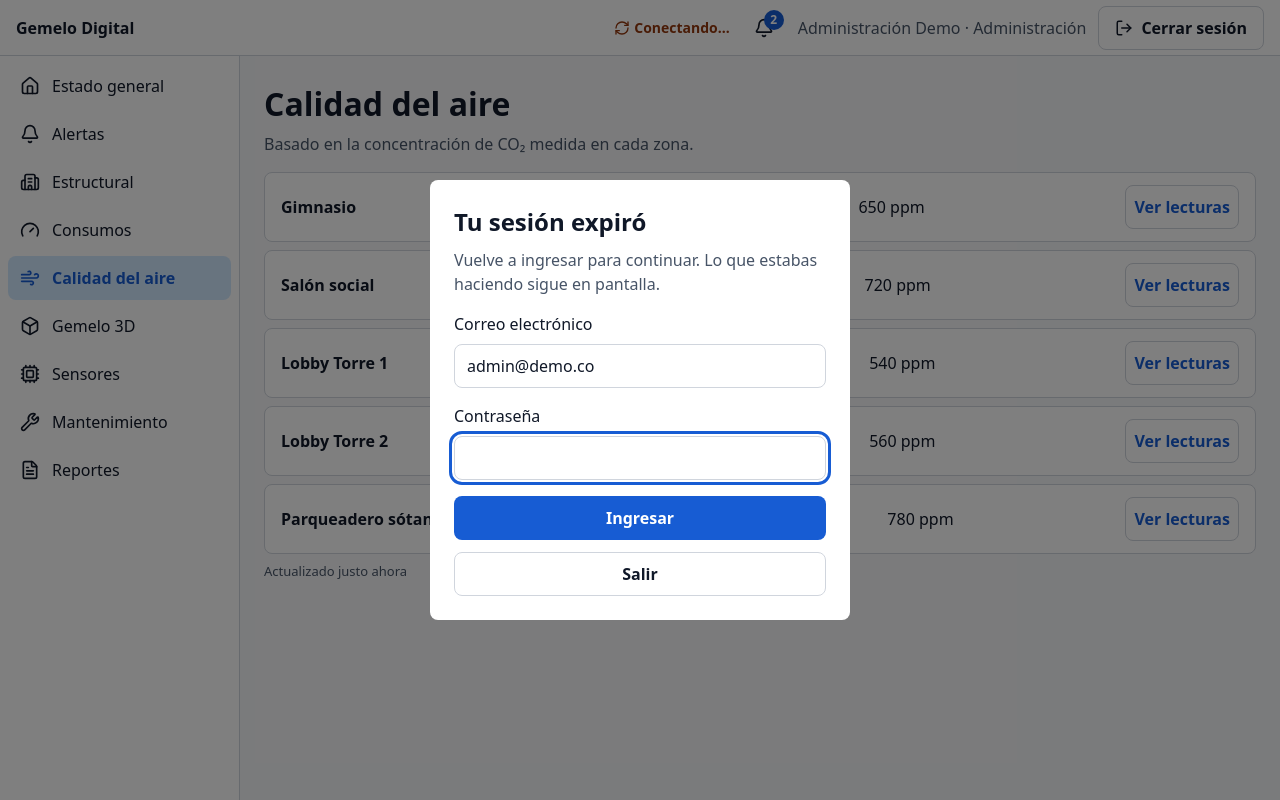
Test: rutas y guardas › si la sesión expira, aparece el modal y al volver a entrar sigue en la misma pantalla
Expected: the heading "Calidad del aire" is shown, [264, 82, 510, 125]
Expected: the field labelled "Correo electrónico" holds "admin@demo.co", [454, 344, 826, 388]
Type "Demo1234!" into the password field labelled "Contraseña" at [640, 458], box [454, 436, 826, 480]
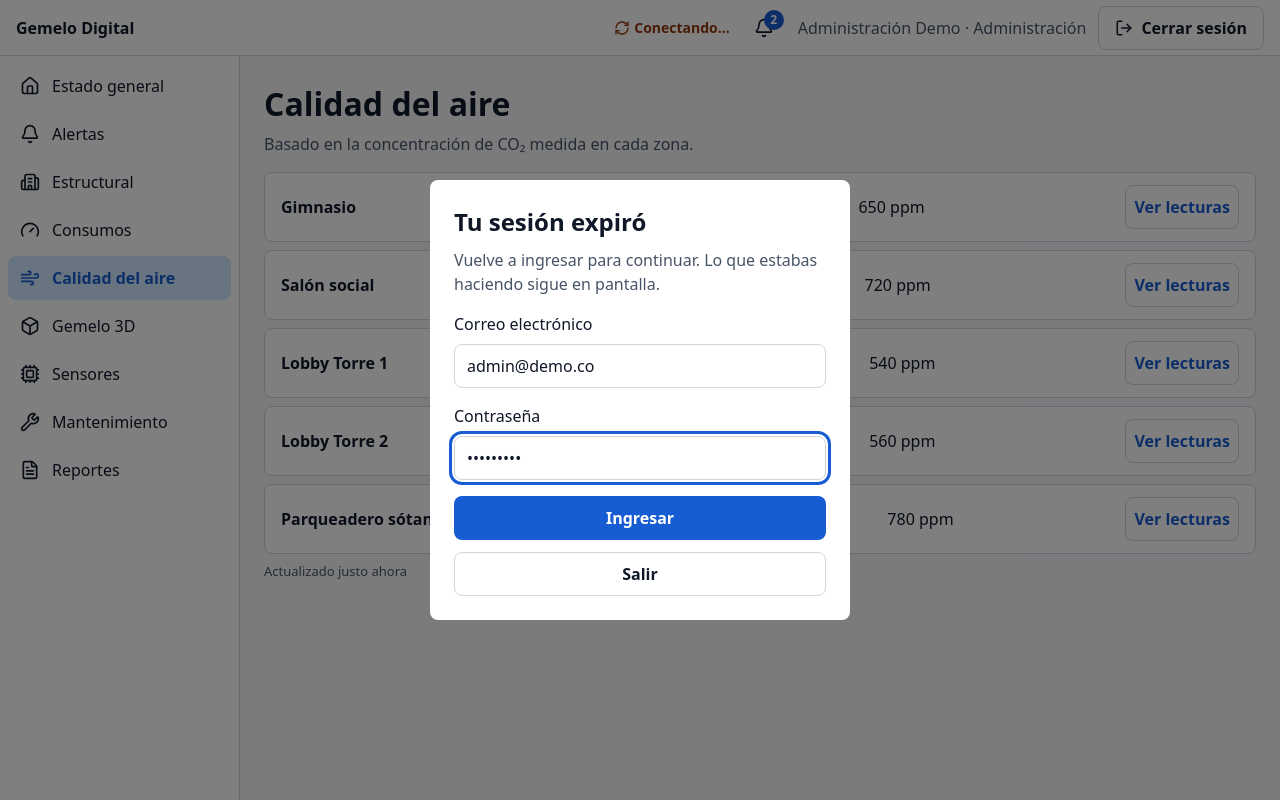
Click the button "Ingresar" at [640, 518], box [454, 496, 826, 540]
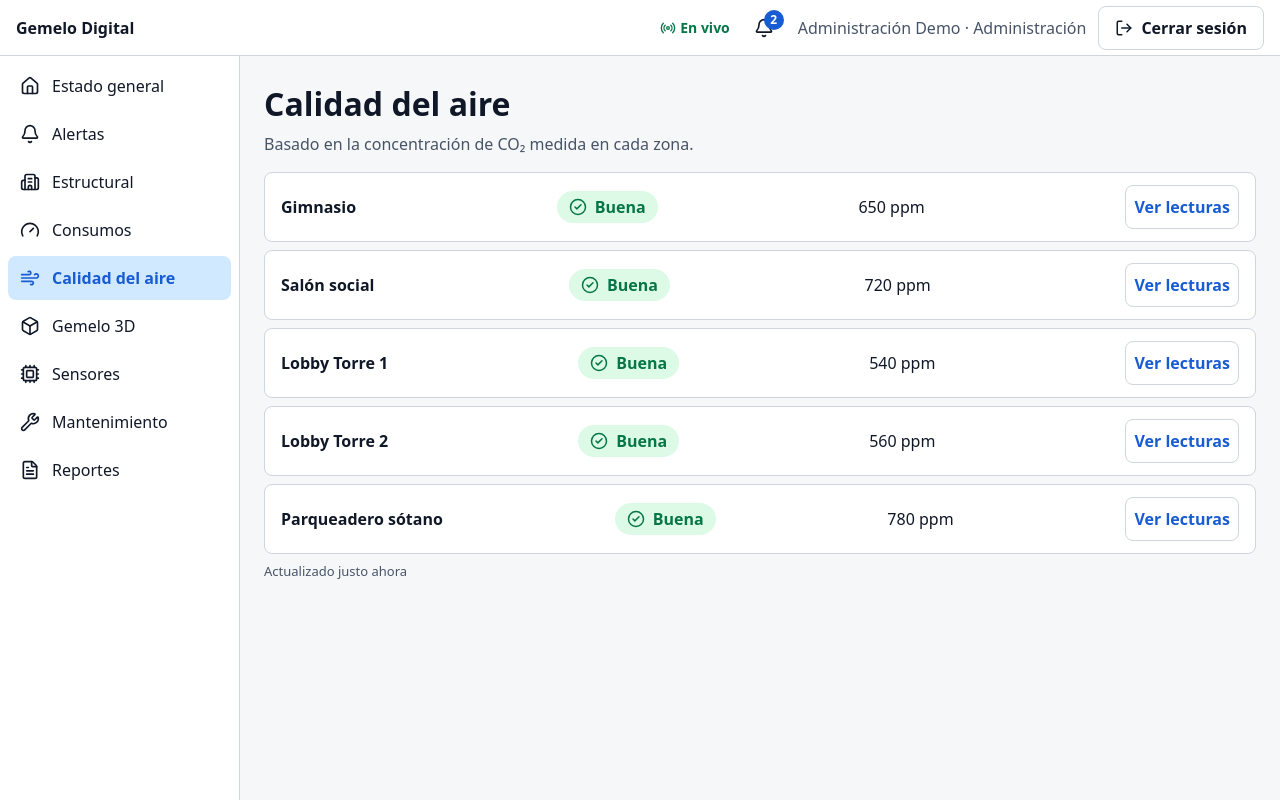
Expected: the heading "Calidad del aire" is shown, [264, 82, 510, 125]
Now the dialog is gone
